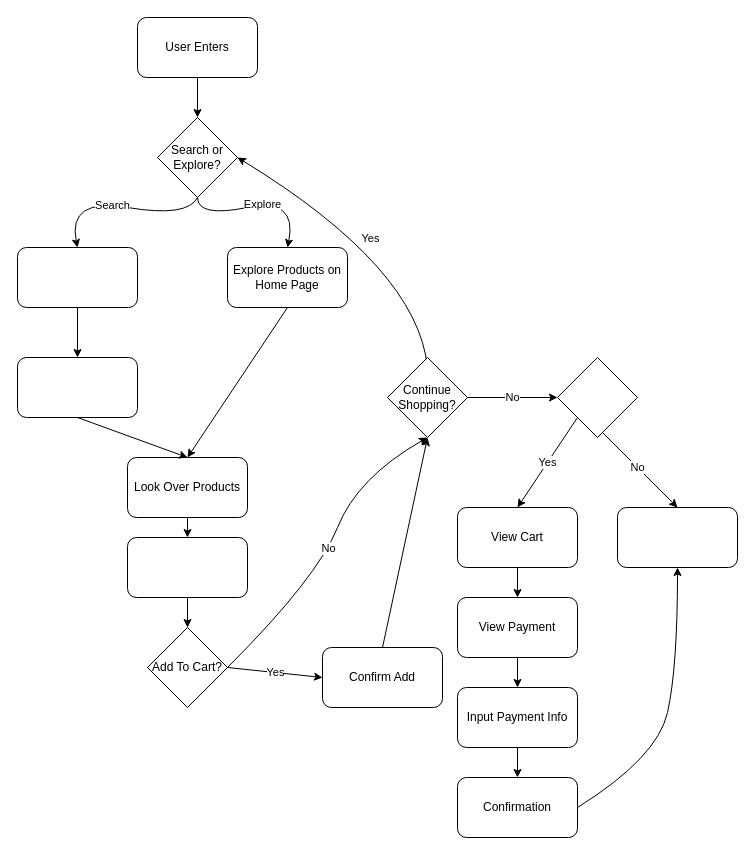
Some shapes in this 755 by 855 pixel diagram are drawn without their labels. Here are the shapes that lost their labels. From the top down, the centre of each, then its label:
the point at 77,277: Search Product
the point at 77,387: Input Website
the point at 597,397: Checkout?
the point at 677,537: Leave
the point at 187,567: View Specific Product
